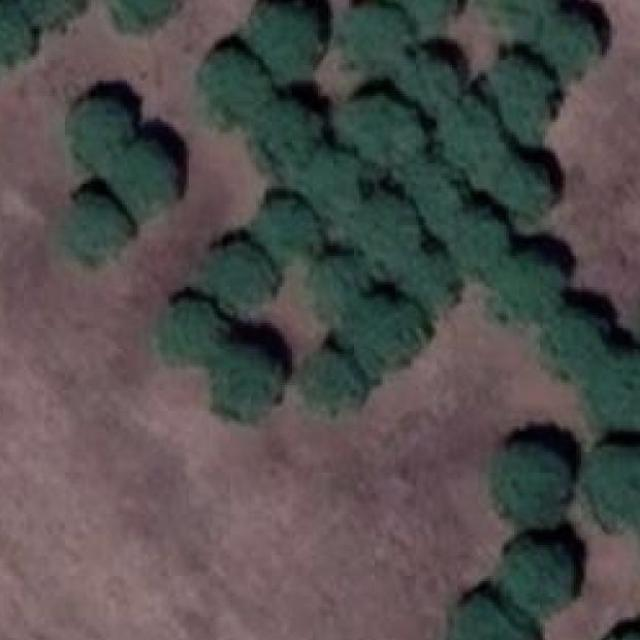Tree: (497, 535, 573, 622), (344, 99, 424, 171), (351, 295, 421, 371), (251, 1, 318, 78), (206, 243, 276, 316), (112, 142, 182, 215), (496, 445, 562, 522), (67, 187, 132, 264), (346, 0, 411, 70), (216, 342, 276, 417), (256, 99, 323, 166), (488, 258, 561, 318), (354, 197, 421, 262), (253, 199, 323, 261), (204, 48, 266, 114), (496, 58, 552, 130), (547, 302, 604, 372), (70, 99, 132, 161), (591, 352, 640, 429), (160, 300, 215, 366), (304, 349, 362, 411), (597, 446, 640, 527), (496, 152, 552, 212), (544, 13, 599, 74), (308, 153, 359, 218), (454, 208, 506, 270), (408, 52, 459, 110), (310, 254, 361, 311), (454, 602, 530, 640), (444, 99, 490, 161), (416, 166, 466, 223), (408, 251, 452, 311), (490, 0, 560, 29), (0, 3, 32, 65), (112, 0, 178, 24), (15, 0, 76, 24), (394, 0, 458, 21), (594, 633, 640, 640)
